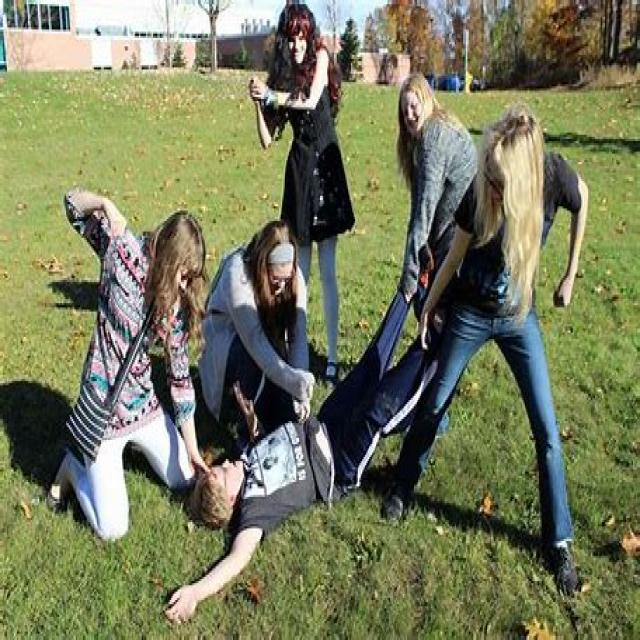fight: (67, 26, 600, 535)
